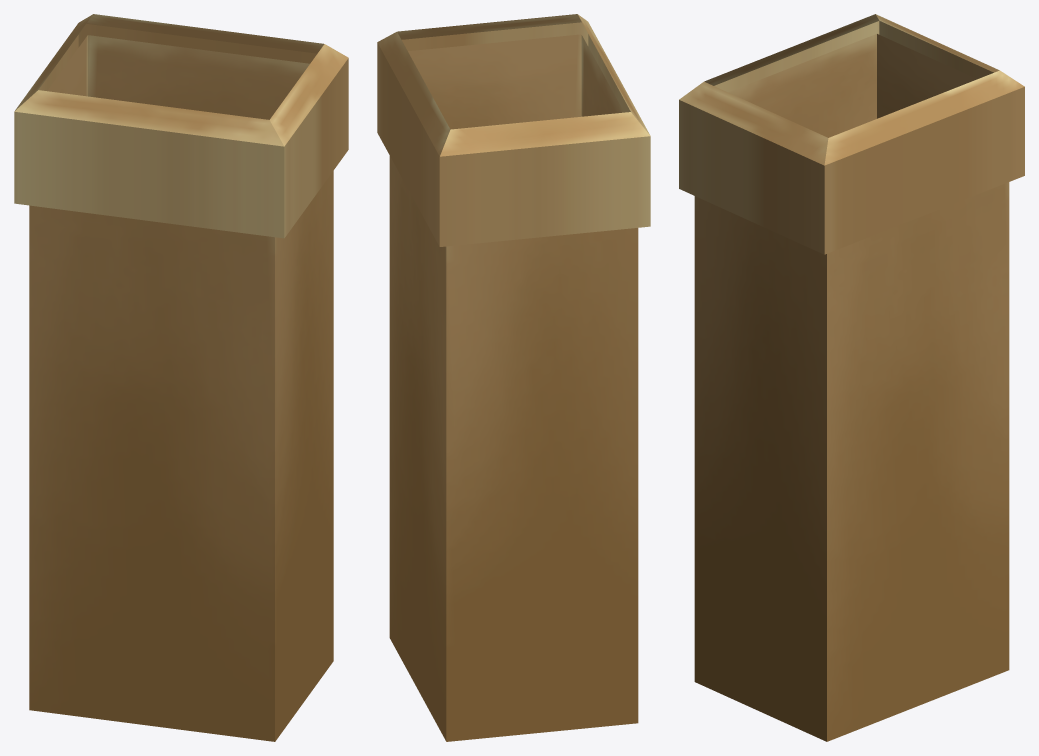
The model's file is Gincana_SeatsCorner_2.fbx.
3 renders of one model, left to right at view 1: azimuth 30°, elevation 25°; view 2: azimuth 150°, elevation 25°; view 3: azimuth 270°, elevation 25°, orthographic. The views are drawn at different scales.
Parts seen in each view (by area): view 1: Gincana_SeatsCorner.2; view 2: Gincana_SeatsCorner.2; view 3: Gincana_SeatsCorner.2.
Part boxes in pixels (x1,y1,x2,y2): Gincana_SeatsCorner.2: (14,14,348,741); Gincana_SeatsCorner.2: (377,14,650,741); Gincana_SeatsCorner.2: (679,14,1024,741).
Bounding box in the file's own units: 307 × 592 × 309.
Materials: 1 (1 with a texture image).
